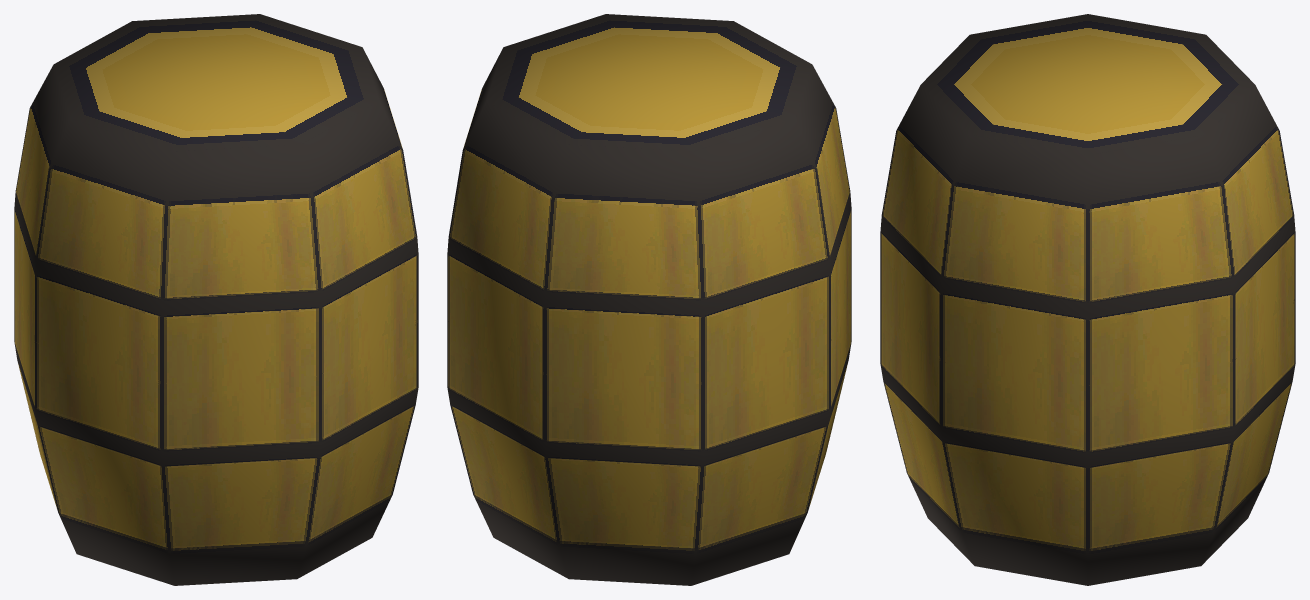
Rendered from barrel.fbx.
3 renders of one model, left to right at view 1: azimuth 30°, elevation 25°; view 2: azimuth 150°, elevation 25°; view 3: azimuth 270°, elevation 25°, orthographic.
Visible parts, largest first — view 1: Barrel; view 2: Barrel; view 3: Barrel.
Boxes of the visible parts, x1,y1,x2,y2 form: Barrel: (14, 14, 418, 585); Barrel: (447, 14, 851, 585); Barrel: (880, 14, 1295, 585).
Size of the model in its own units: 0.8663 by 1 by 0.8663.
